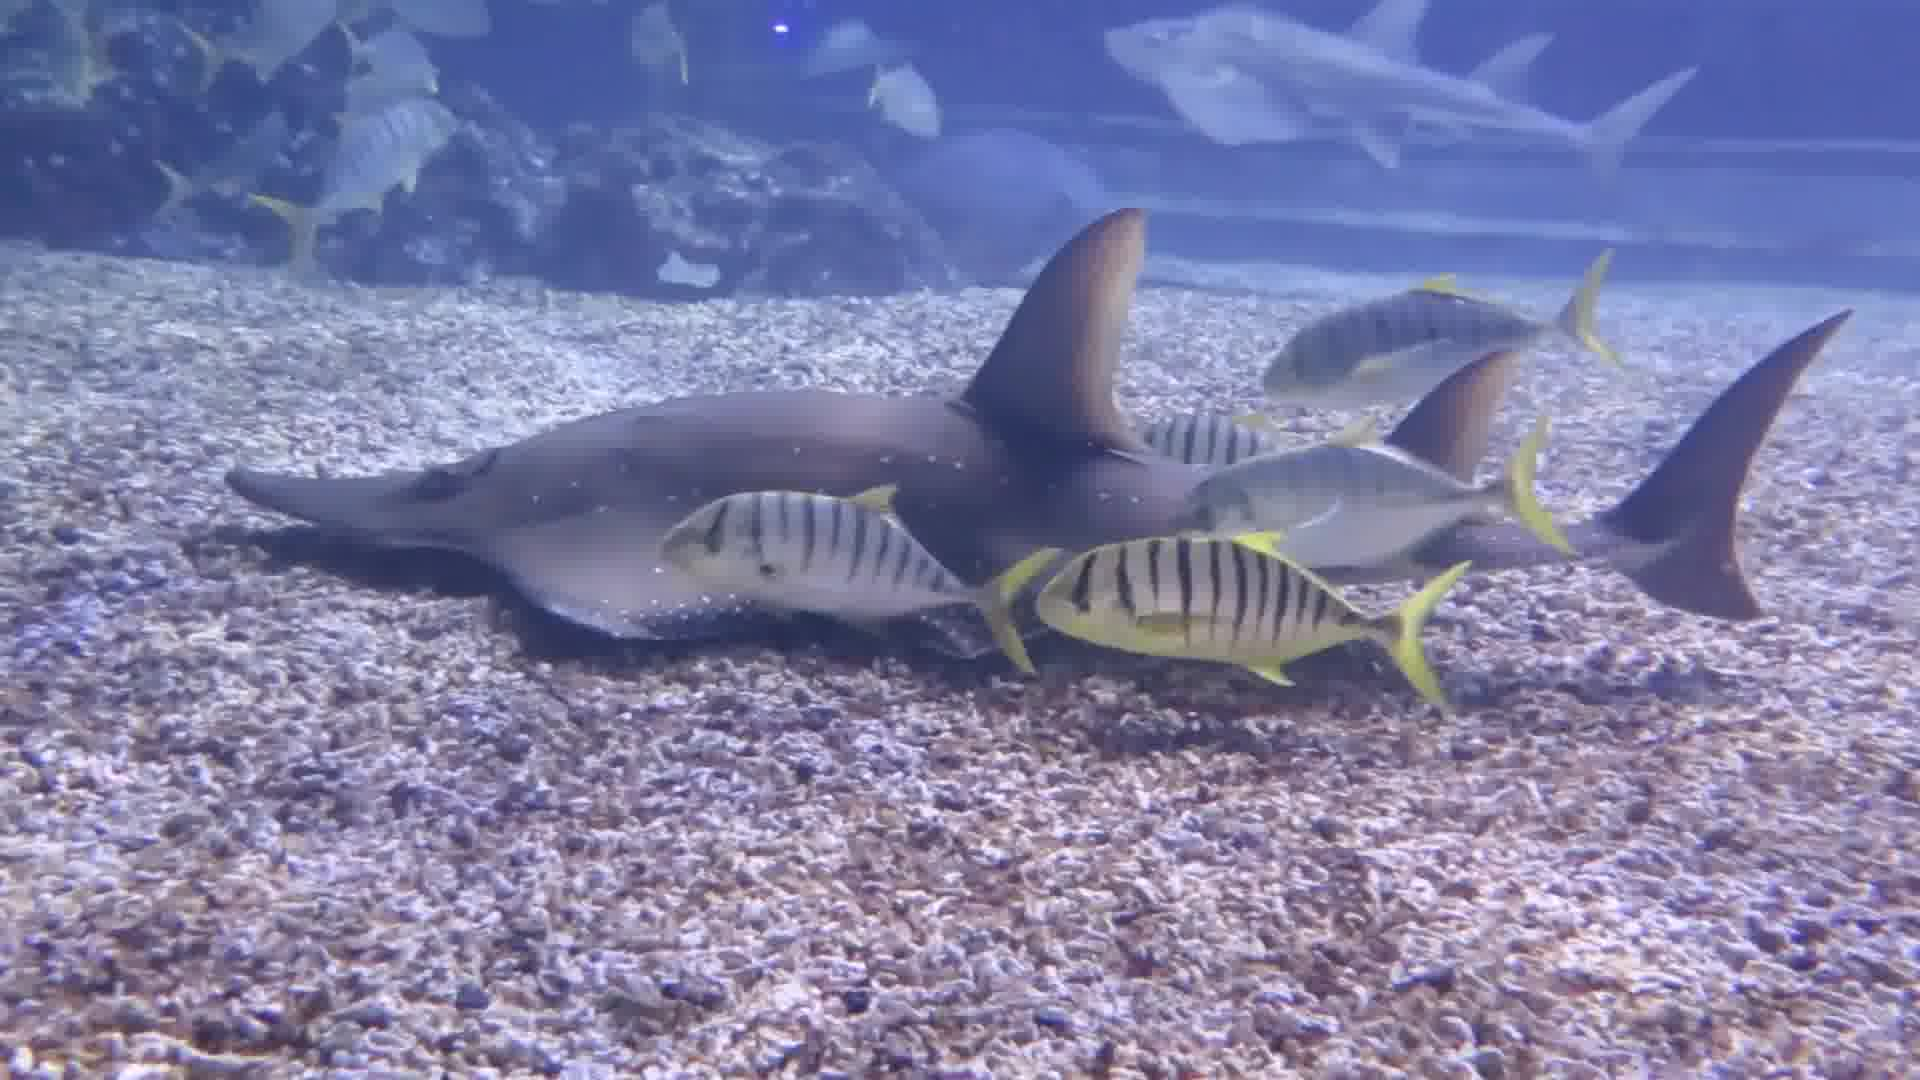Rhychobatus djiddensis: (206, 214, 1855, 692)
